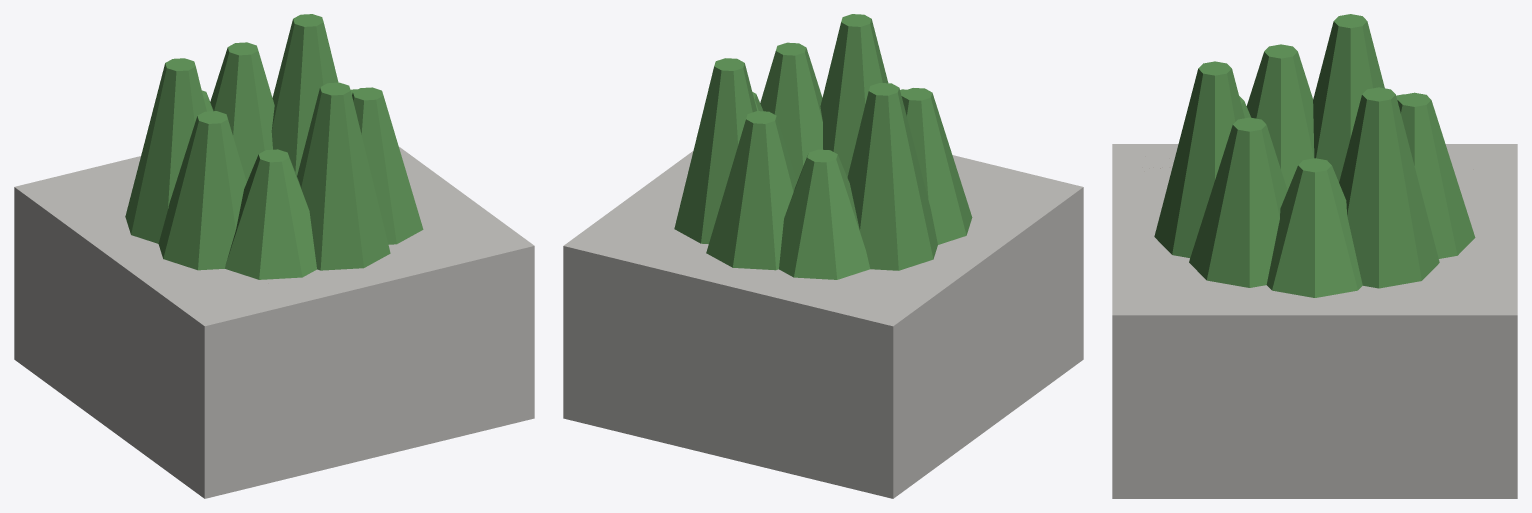
File: SM_Prop_Planter.glb
The picture shows the model from 3 angles, left to right: view 1: azimuth 30°, elevation 25°; view 2: azimuth 150°, elevation 25°; view 3: azimuth 270°, elevation 25°; orthographic projection. The views are drawn at different scales.
Visible parts, largest first — view 1: SM_Prop_Planter; view 2: SM_Prop_Planter; view 3: SM_Prop_Planter.
Part boxes in pixels (bbox=[...]): SM_Prop_Planter: bbox=[14, 14, 534, 498]; SM_Prop_Planter: bbox=[563, 14, 1083, 498]; SM_Prop_Planter: bbox=[1112, 14, 1517, 498].
Bounding box in the file's own units: 1.2 × 1.15 × 1.2.
